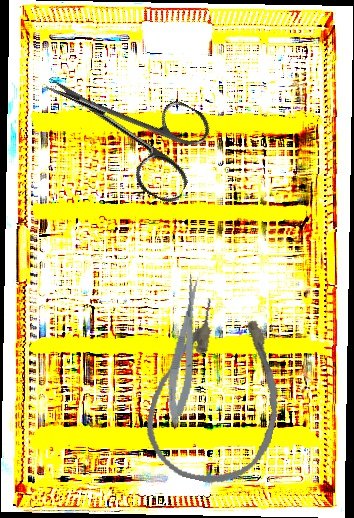Cannula: (136, 290, 300, 495)
Iris Scissors: (24, 42, 220, 208)
Micro Scissor: (161, 273, 210, 425)
